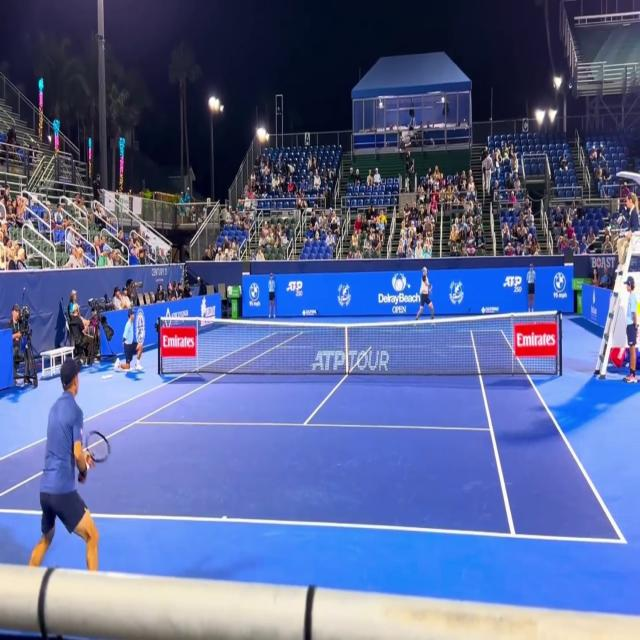tennisBall: (406, 282, 412, 292)
